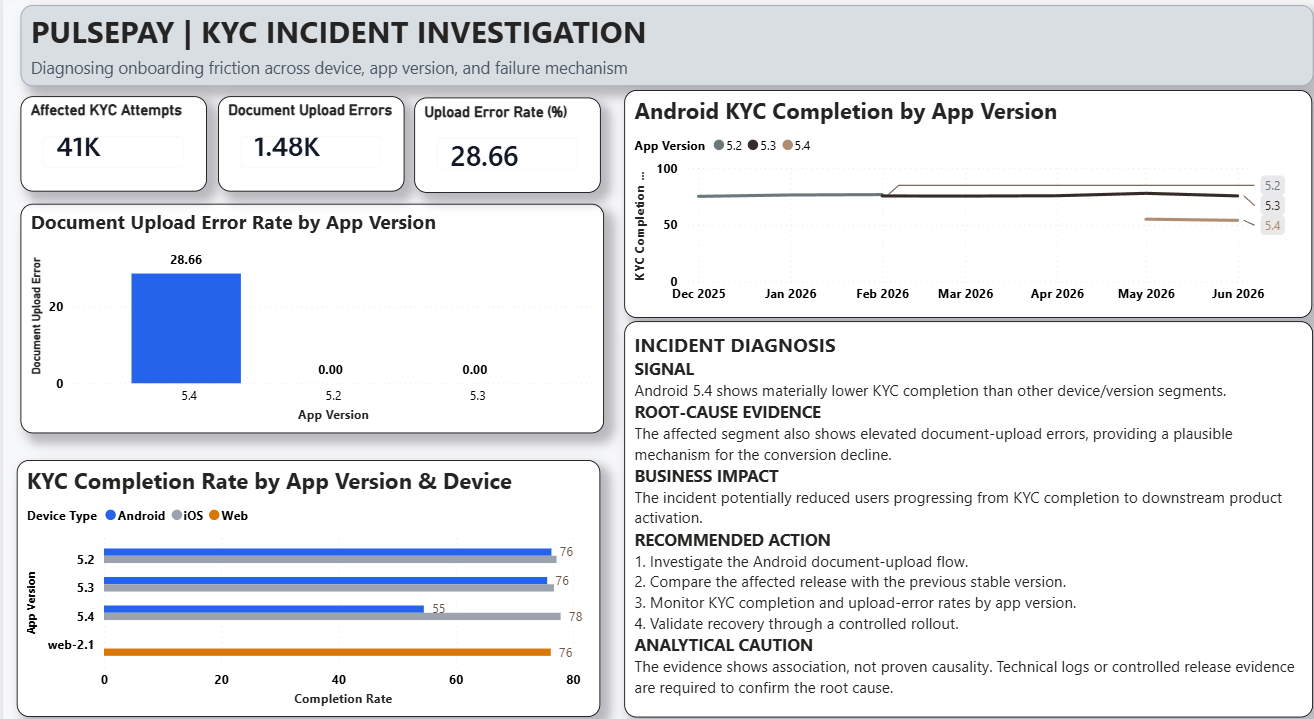

Layout of this report page (visuals, bound fields, positions):
{"tool":"powerbi","page":{"name":"03-PulsePay-KYC-Incident-Investigation.pbix","canvas":[1280,720],"ordinal":2},"visuals":[{"type":"clusteredBarChart","title":"KYC Completion Rate by App Version & Device","fields":{"Category":["pulsepay_analytics vw_kyc_device_version.app_version"],"Y":["Sum(pulsepay_analytics vw_kyc_device_version.completion_rate_pct)"],"Series":["pulsepay_analytics vw_kyc_device_version.device_type"]},"box":[13.3,448.3,563.3,248.3],"z":0},{"type":"textbox","title":"PULSEPAY | KYC INCIDENT INVESTIGATION","box":[16.4,10,1248,78],"z":1000},{"type":"clusteredColumnChart","title":"Document Upload Error Rate by App Version","fields":{"Category":["pulsepay_analytics vw_kyc_device_version.app_version"],"Y":["Sum(pulsepay_analytics vw_kyc_device_version.document_upload_error_rate_pct)"]},"box":[16.7,201.7,563.3,221.7],"z":2000},{"type":"lineChart","title":"Android KYC Completion by App Version","fields":{"Category":["pulsepay_analytics vw_weekly_kyc_trend.week_start.Variation.Date Hierarchy.Year","pulsepay_analytics vw_weekly_kyc_trend.week_start.Variation.Date Hierarchy.Quarter","pulsepay_analytics vw_weekly_kyc_trend.week_start.Variation.Date Hierarchy.Month","pulsepay_analytics vw_weekly_kyc_trend.week_start.Variation.Date Hierarchy.Day"],"Y":["Avg(pulsepay_analytics vw_weekly_kyc_trend.kyc_completion_rate_pct)"],"Series":["pulsepay_analytics vw_weekly_kyc_trend.app_version"]},"box":[600,91.9,664,220],"z":3000},{"type":"cardVisual","title":"Affected KYC Attempts","fields":{"Data":["Sum(pulsepay_analytics vw_kyc_device_version.kyc_attempts)"]},"box":[16.3,98,180,92],"z":4000},{"type":"textbox","box":[600,314.9,664.9,382.4],"z":5000},{"type":"cardVisual","title":"Document Upload Errors","fields":{"Data":["Sum(pulsepay_analytics vw_kyc_device_version.document_upload_errors)"]},"box":[208,98,180,92],"z":6000},{"type":"cardVisual","title":"Upload Error Rate (%)","fields":{"Data":["Sum(pulsepay_analytics vw_kyc_device_version.document_upload_error_rate_pct)"]},"box":[396.7,98.3,180,92],"z":7000}]}

Visuals, with their boxes in screenshot pixels (x1, y1, x2, y2), scaled from the page's 1280x720 canvas onto the 1314x719 screenshot:
"KYC Completion Rate by App Version & Device" clusteredBarChart: (14,448,592,696)
"PULSEPAY | KYC INCIDENT INVESTIGATION" textbox: (17,10,1298,88)
"Document Upload Error Rate by App Version" clusteredColumnChart: (17,201,595,423)
"Android KYC Completion by App Version" lineChart: (616,92,1298,311)
"Affected KYC Attempts" cardVisual: (17,98,202,190)
textbox: (616,314,1298,696)
"Document Upload Errors" cardVisual: (214,98,398,190)
"Upload Error Rate (%)" cardVisual: (407,98,592,190)
